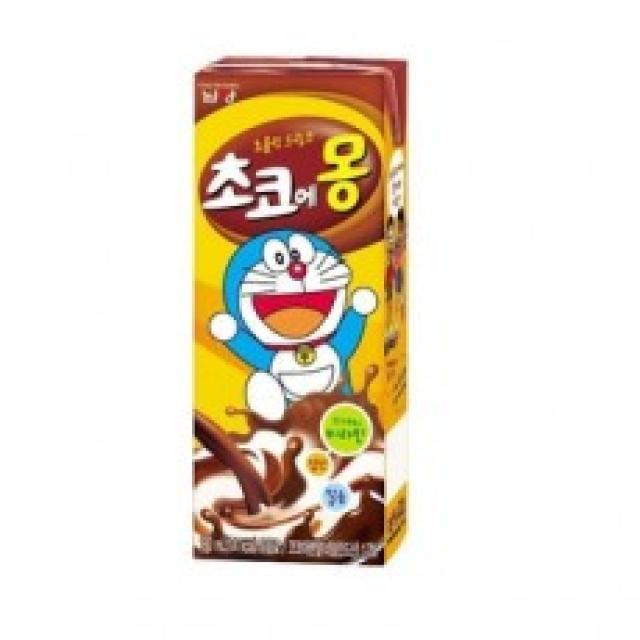Tetra: (174, 53, 427, 575)
